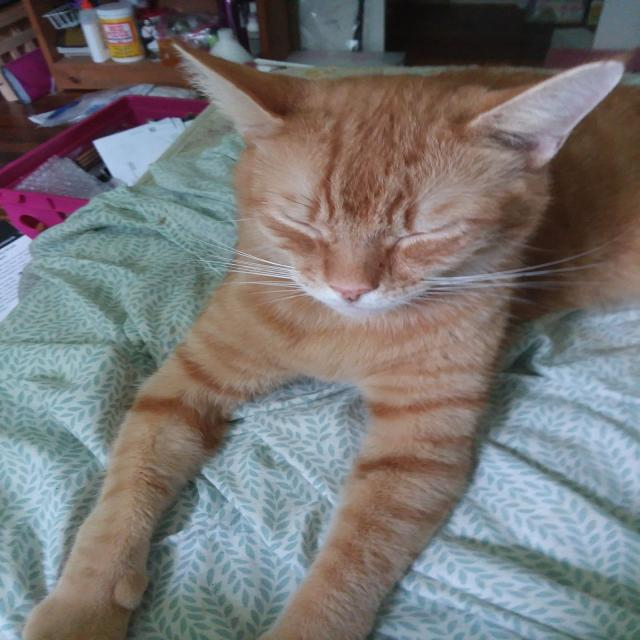sarman: (23, 11, 633, 639)
